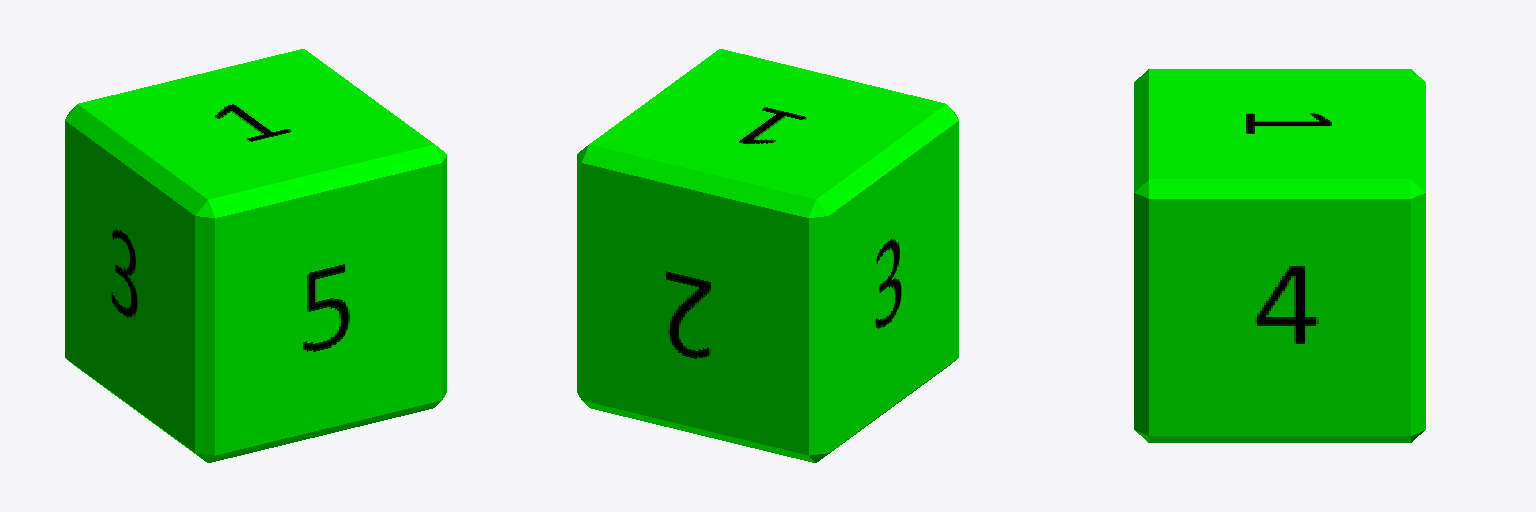
3 renders of one model, left to right at view 1: azimuth 30°, elevation 25°; view 2: azimuth 150°, elevation 25°; view 3: azimuth 270°, elevation 25°, orthographic.
Visible parts, largest first — view 1: default; view 2: default; view 3: default.
Boxes of the visible parts, x1=… form: default: x1=65, y1=49, x2=446, y2=462; default: x1=577, y1=49, x2=958, y2=462; default: x1=1134, y1=69, x2=1425, y2=442.
Bounding box in the file's own units: 1 × 1 × 1.
1 materials, 1 textured.